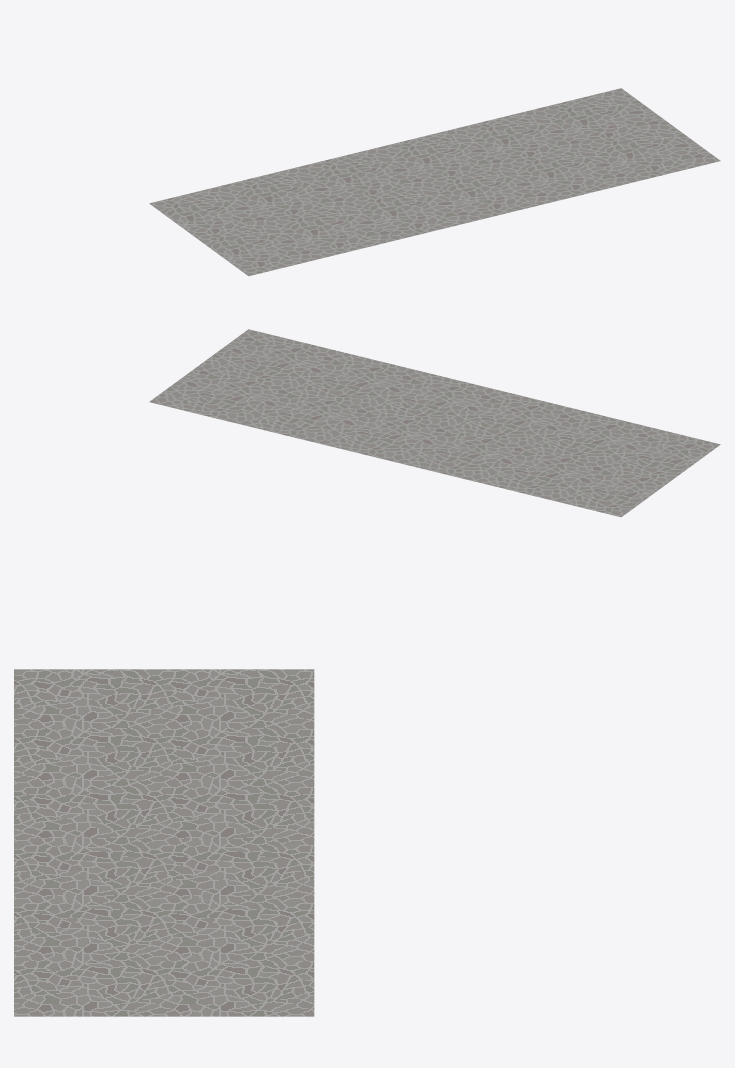
Rendered from kd_stage_135d18_4_26_bounded.glb.
3 renders of one model, top to bottom at view 1: azimuth 30°, elevation 25°; view 2: azimuth 150°, elevation 25°; view 3: azimuth 270°, elevation 25°, orthographic. The views are drawn at different scales.
Visible parts, largest first — view 1: kd_stage_135d18_4_26_bounded; view 2: kd_stage_135d18_4_26_bounded; view 3: kd_stage_135d18_4_26_bounded.
Boxes of the visible parts, x1,y1,x2,y2 form: kd_stage_135d18_4_26_bounded: (149, 88, 720, 276); kd_stage_135d18_4_26_bounded: (149, 329, 720, 517); kd_stage_135d18_4_26_bounded: (14, 669, 314, 1016).
Bounding box in the file's own units: 2.01 × 0.1 × 1.73.
Materials: 1 (1 with a texture image).
